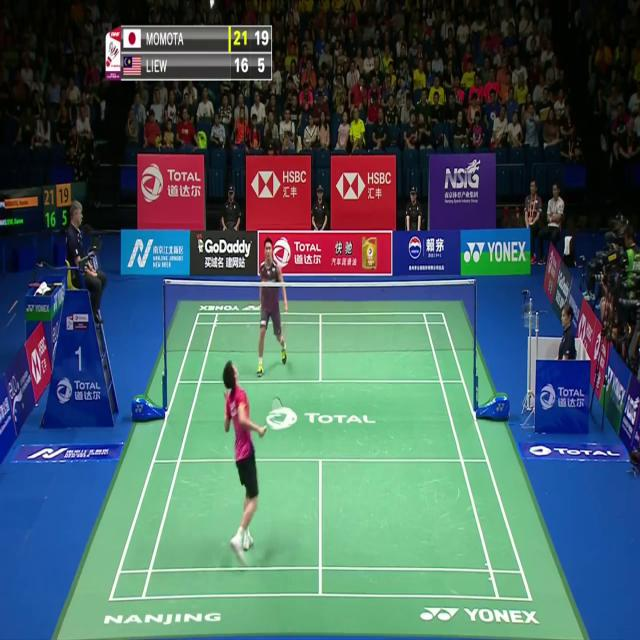Shuttlecock: (208, 0, 215, 11)
